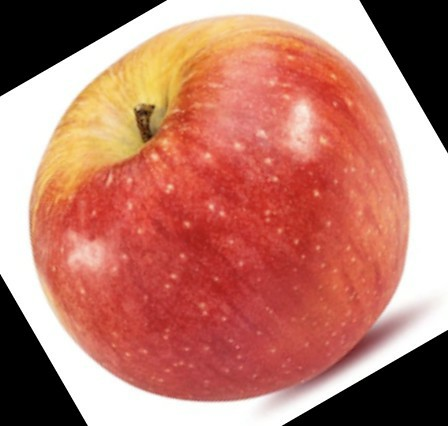normal_apple: (30, 15, 411, 398)
